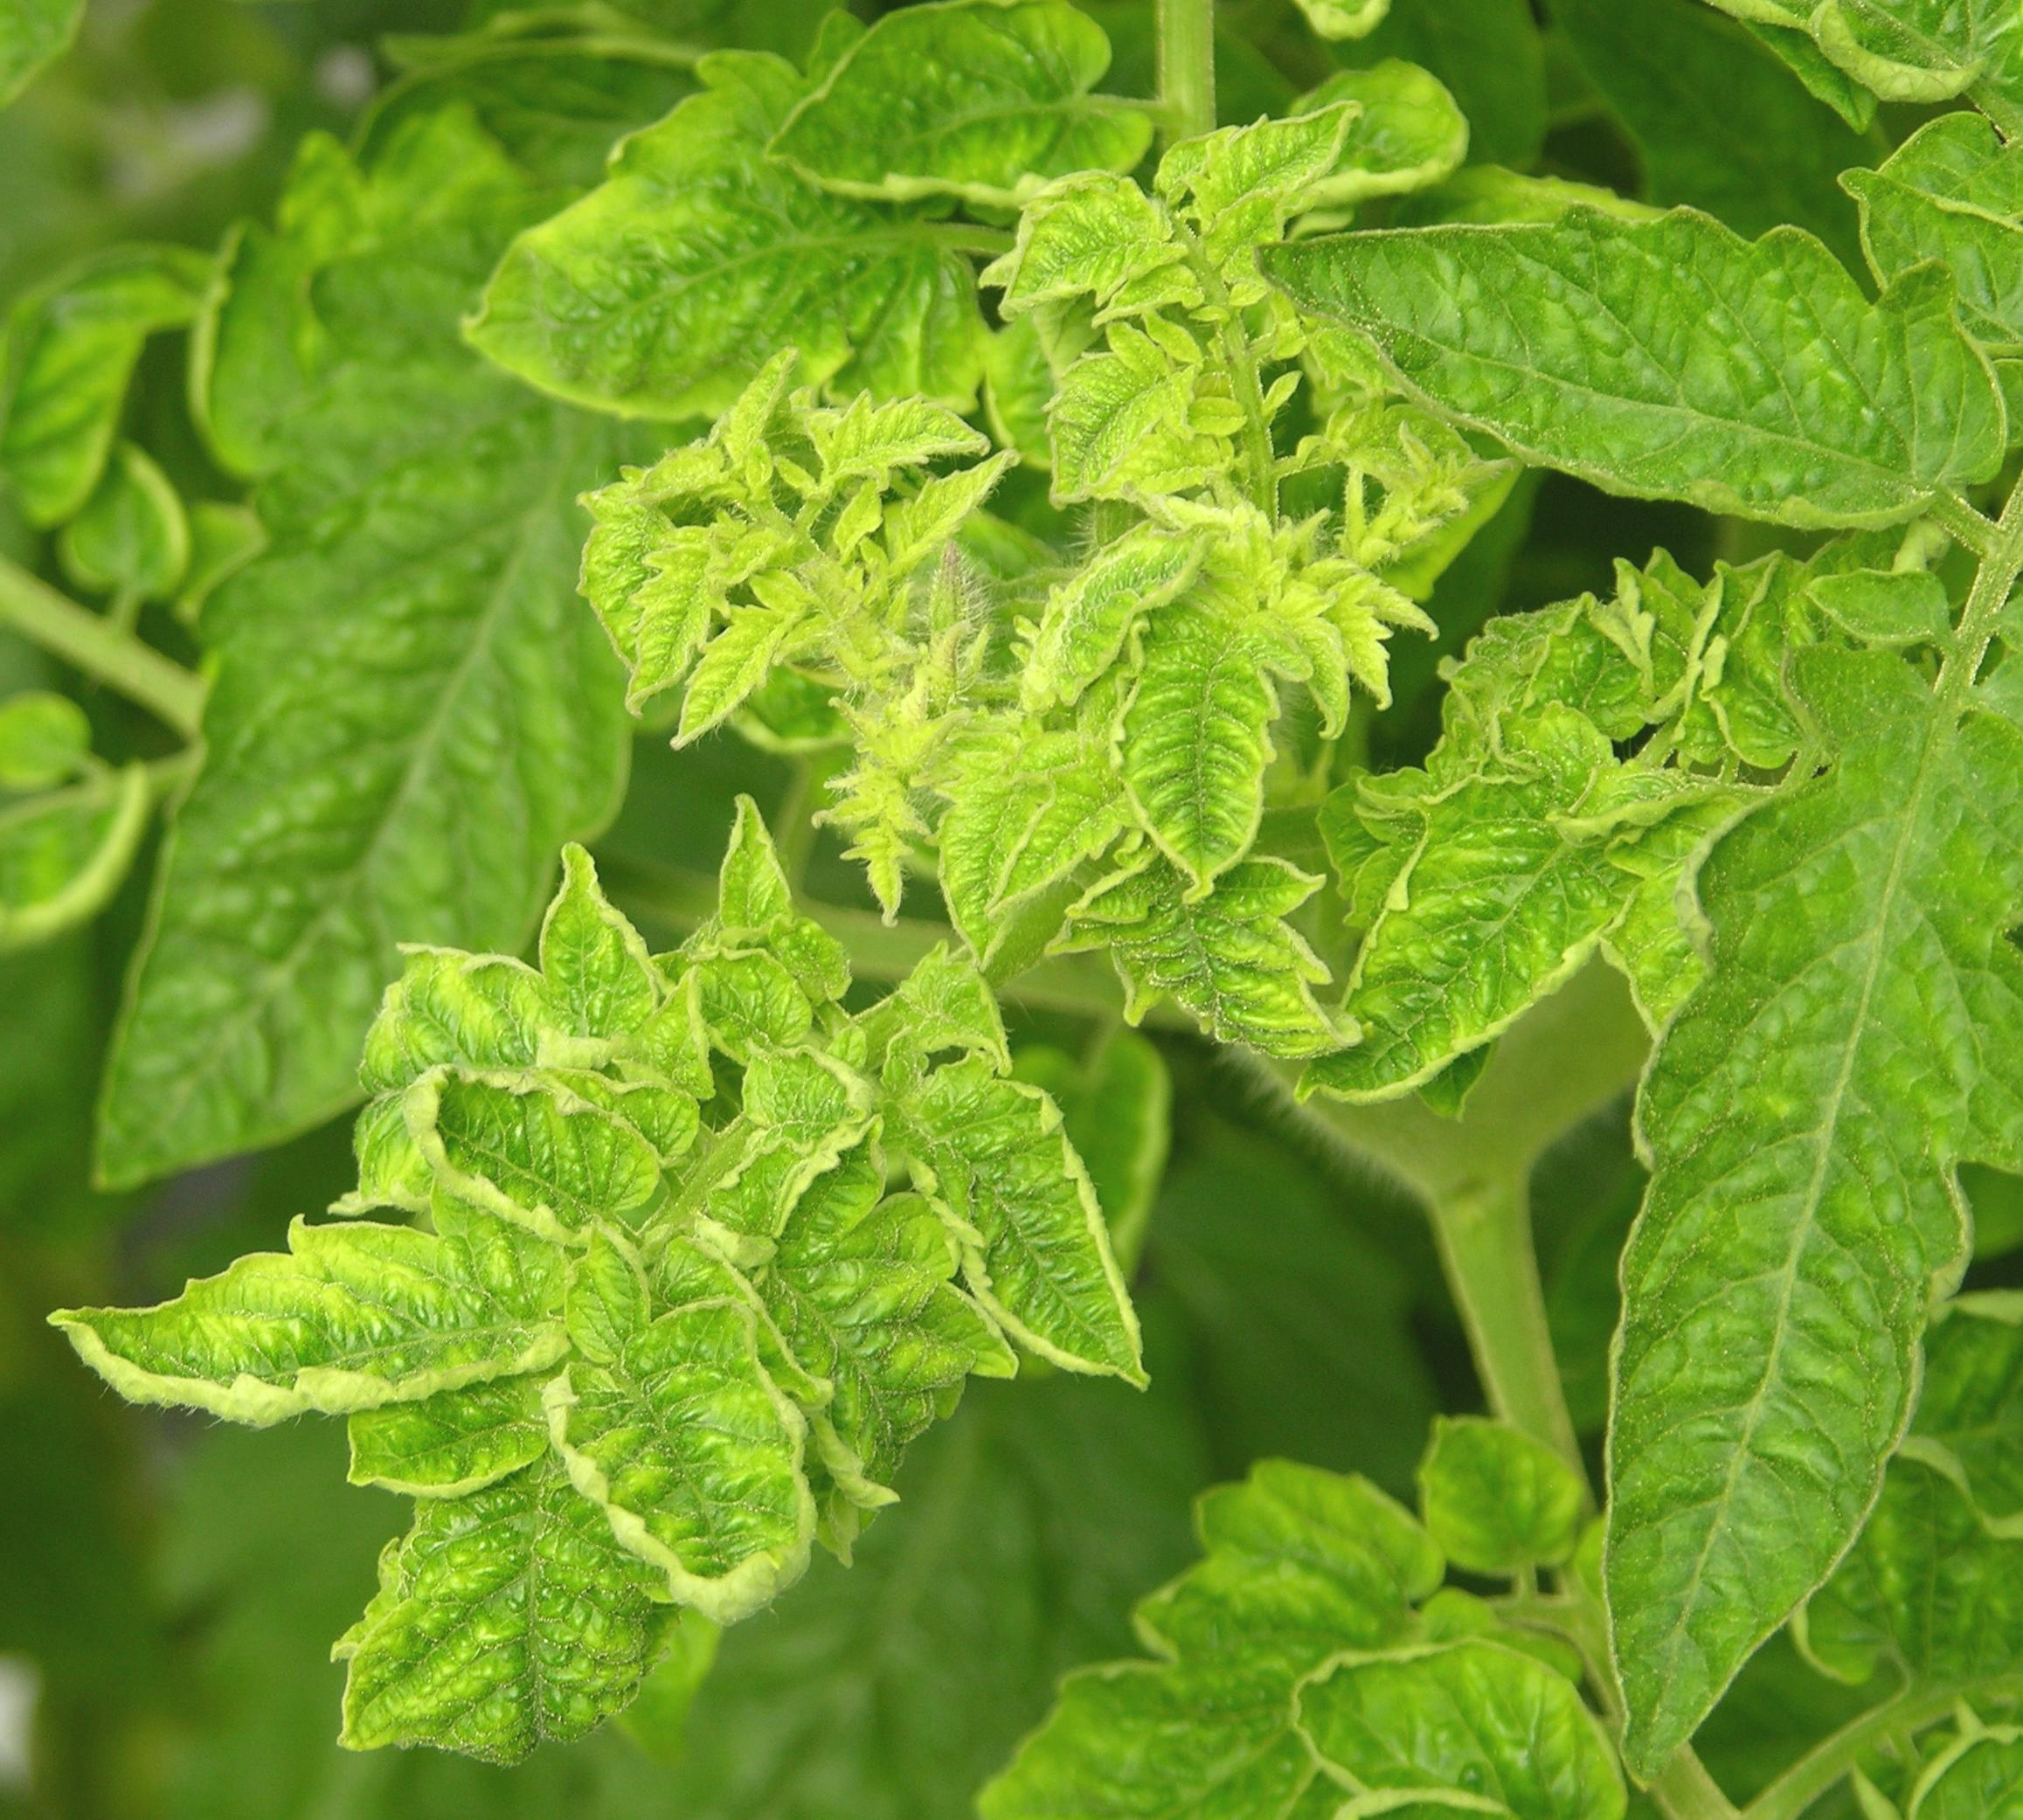Tomato leaf yellow virus: (1509, 603, 2022, 1751), (1151, 149, 2017, 529), (1267, 715, 1667, 1138), (445, 164, 1066, 437), (0, 1182, 583, 1442), (528, 1275, 862, 1670), (870, 1007, 1168, 1423), (277, 1420, 632, 1755), (349, 1041, 736, 1253), (1087, 595, 1314, 887), (876, 685, 1119, 911), (647, 598, 828, 743), (607, 527, 732, 673)
